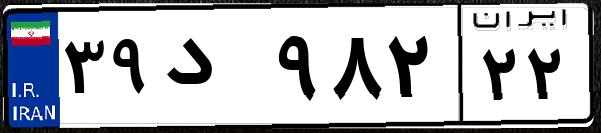2: (385, 28, 445, 110), (475, 38, 525, 113), (525, 38, 570, 115)
3: (57, 26, 110, 100)
8: (330, 28, 385, 110)
9: (270, 28, 330, 110), (110, 28, 158, 98)
د: (158, 20, 270, 120)
